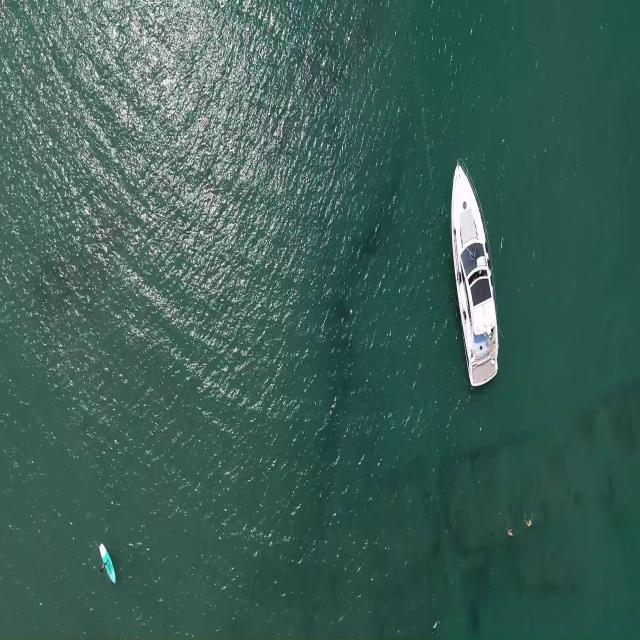boat: (447, 155, 502, 393)
person: (523, 514, 536, 528), (98, 559, 110, 574), (506, 528, 514, 538)
surfboard: (100, 539, 116, 590)
